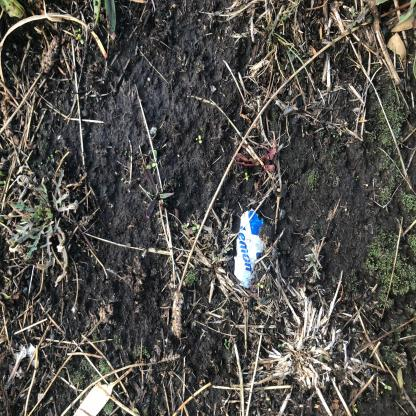trash: (88, 306, 160, 356)
